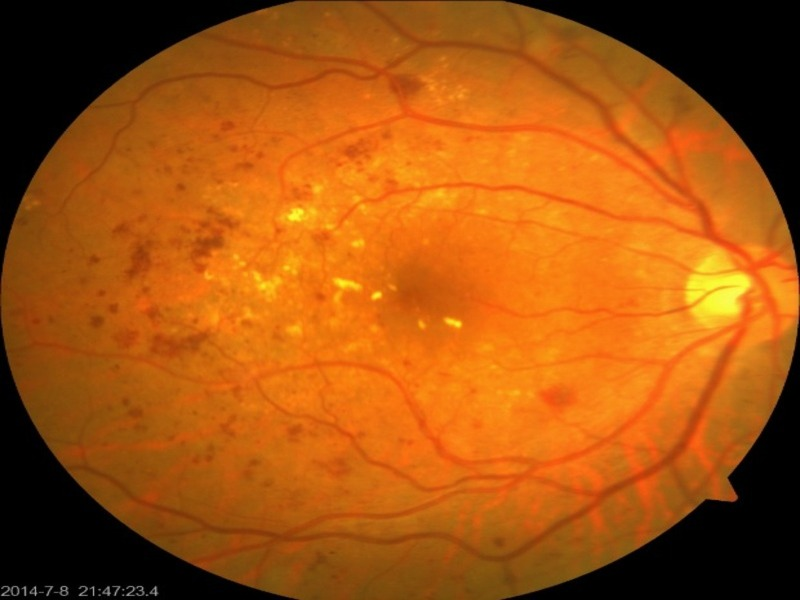Optic Cup: (685, 247, 744, 314)
Optic Disc: (686, 245, 797, 341)
